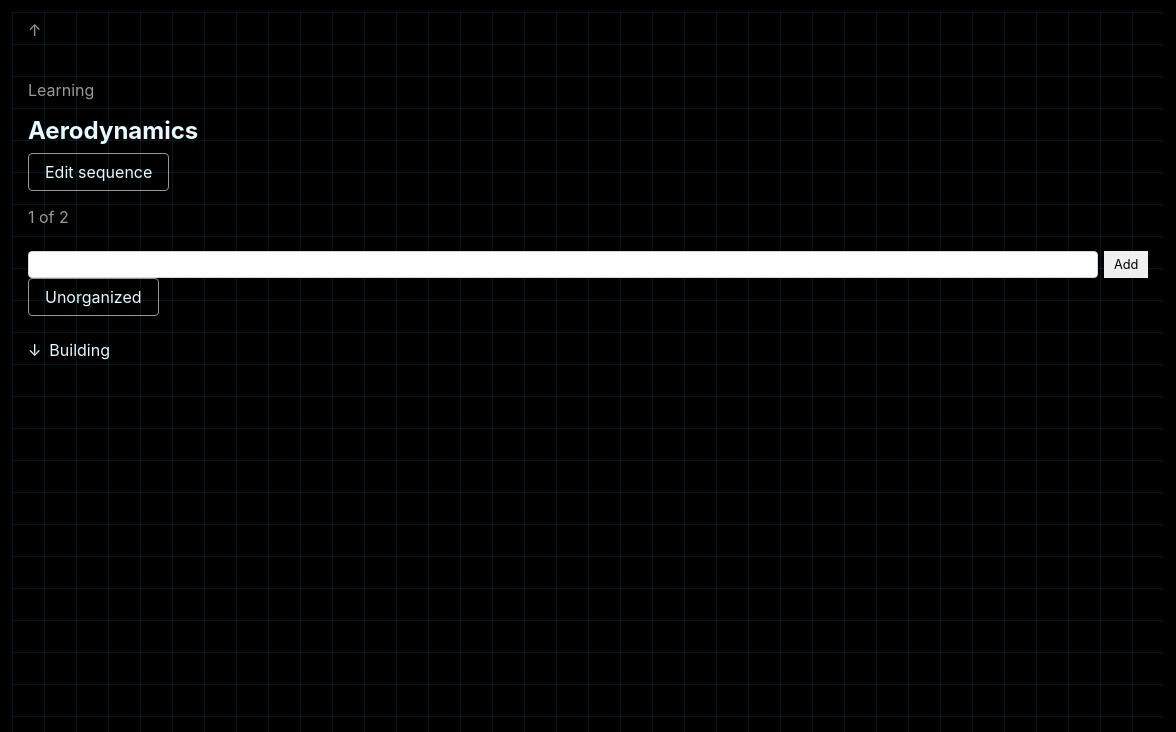
Scenario: PhoneProjectView › tapping the down arrow shows the layer first sequence and remembers it
Click the button with aria-label "Layer below: Building" at (80, 350), box [12, 332, 1164, 368]
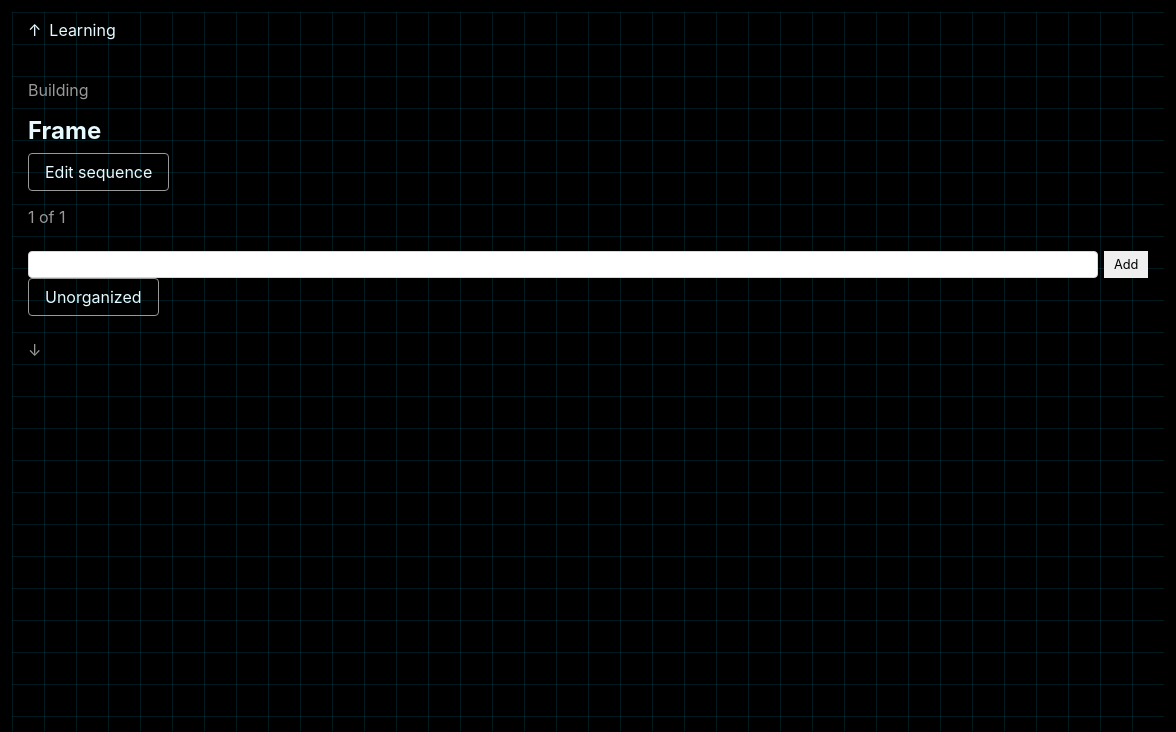
Expected: the heading "Frame" is shown, [28, 116, 101, 145]
Expected: the button with aria-label "Layer above: Learning" is enabled
Expected: the button named "No layer below" is disabled, [12, 332, 1164, 368]
Click the button with aria-label "Layer above: Learning" at (83, 30), box [12, 12, 1164, 48]
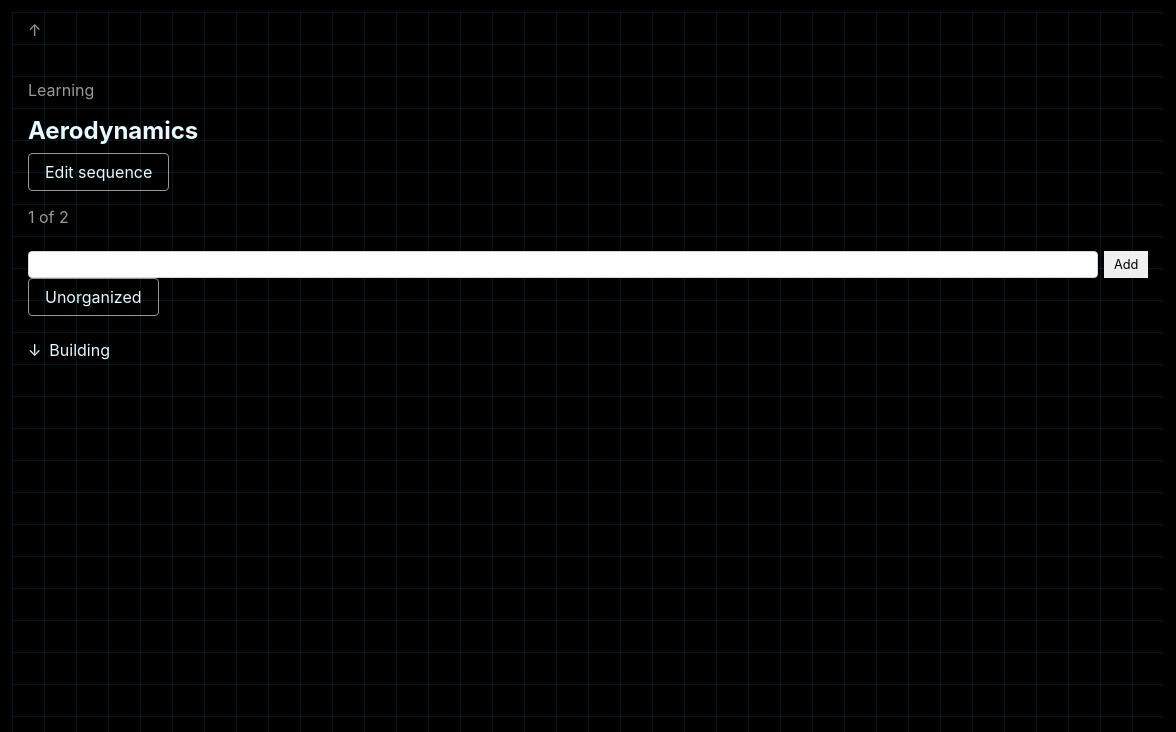
Expected: the heading "Aerodynamics" is shown, [28, 116, 198, 145]
